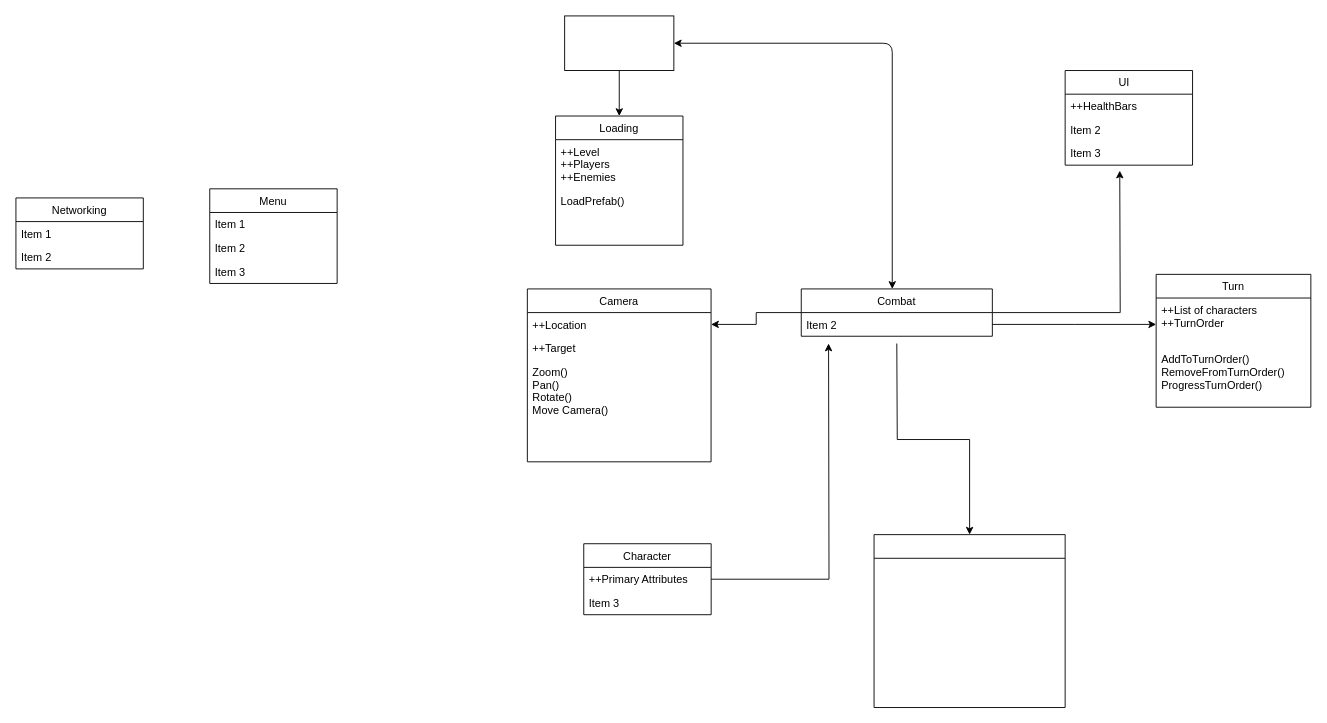
This 1327x723 diagram has some shape labels left out. The shapes that lost their labels are listed below. From the top down, each one's centre as x and y in pixels, then its label:
(x=619, y=43): GameManager
(x=969, y=621): Animations
